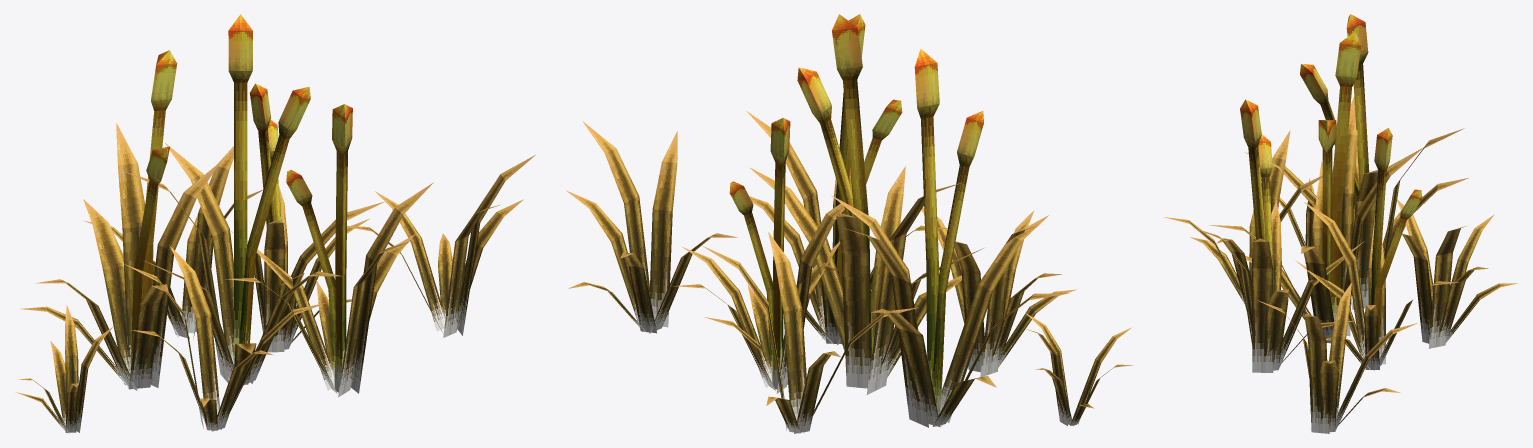
The model's file is Snow Horsetail.obj.
3 renders of one model, left to right at view 1: azimuth 30°, elevation 25°; view 2: azimuth 150°, elevation 25°; view 3: azimuth 270°, elevation 25°, orthographic. The views are drawn at different scales.
Visible parts, largest first — view 1: MODELS_bin_015:poly001; view 2: MODELS_bin_015:poly001; view 3: MODELS_bin_015:poly001.
Part boxes in pixels (box(x1,y1,x2,y2)): MODELS_bin_015:poly001: box(15, 14, 535, 433); MODELS_bin_015:poly001: box(566, 14, 1133, 433); MODELS_bin_015:poly001: box(1163, 14, 1517, 433).
Size of the model in its own units: 4.75 by 3.08 by 3.16.
Materials: 2 (2 with a texture image).
